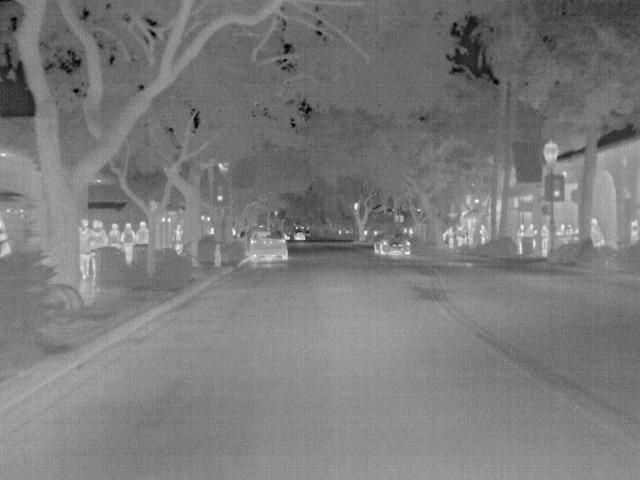car: (246, 228, 289, 262), (373, 228, 415, 257), (291, 227, 307, 243)
person: (78, 222, 94, 278), (120, 222, 136, 264), (589, 218, 608, 248), (170, 221, 184, 256), (133, 220, 151, 246), (538, 224, 551, 258), (514, 221, 526, 254), (523, 223, 538, 249), (108, 223, 125, 244), (477, 221, 490, 247), (454, 225, 467, 247)
